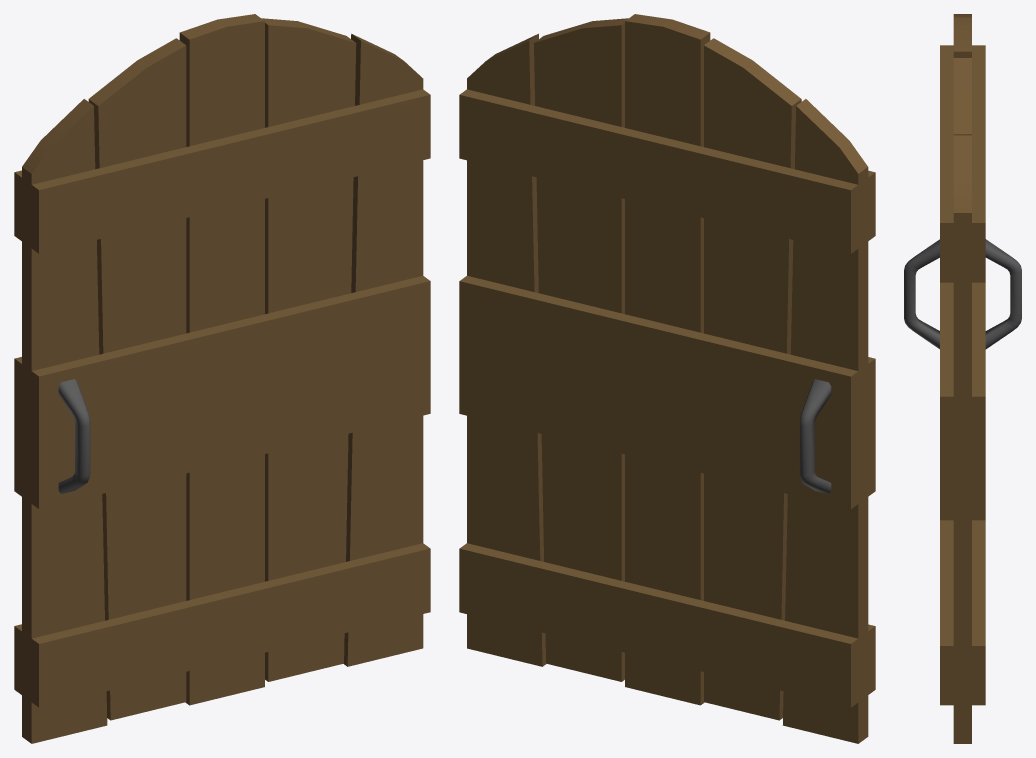
File: WoodGate.FBX
3 views of the same model, side by side, from view 1: azimuth 30°, elevation 25°; view 2: azimuth 150°, elevation 25°; view 3: azimuth 270°, elevation 25° (orthographic). The views are drawn at different scales.
Visible parts, largest first — view 1: WoodDoor, Handle; view 2: WoodDoor, Handle; view 3: WoodDoor, Handle.
Part boxes in pixels (<box>): WoodDoor: <box>14,14,430,743</box>; Handle: <box>58,379,90,493</box>; WoodDoor: <box>459,14,875,743</box>; Handle: <box>799,379,831,494</box>; WoodDoor: <box>940,14,985,743</box>; Handle: <box>904,239,1021,349</box>.
Bounding box in the file's own units: 101 × 165 × 28.3.
